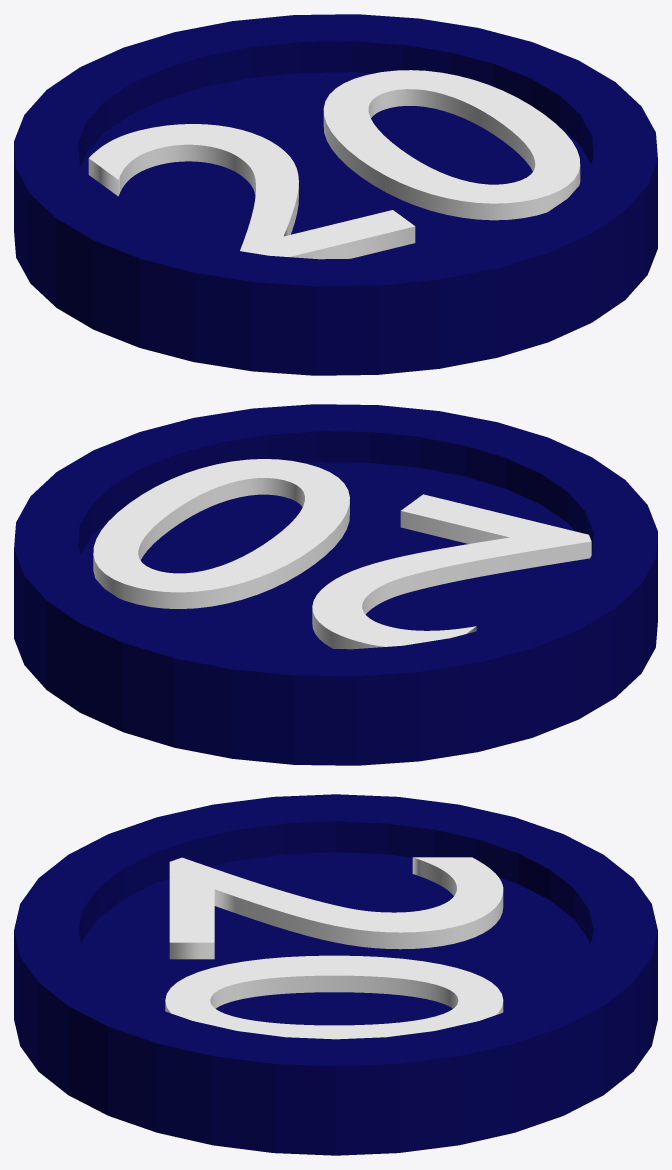
Rendered from moneta_20.fbx.
3 renders of one model, top to bottom at view 1: azimuth 30°, elevation 25°; view 2: azimuth 150°, elevation 25°; view 3: azimuth 270°, elevation 25°, orthographic.
Parts seen in each view (by area): view 1: MONETA_20, NOMINAL_G; view 2: MONETA_20, NOMINAL_G; view 3: MONETA_20, NOMINAL_G.
Part boxes in pixels (x1,y1,x2,y2): MONETA_20: (14,14,657,375); NOMINAL_G: (88,70,580,259); MONETA_20: (14,404,657,765); NOMINAL_G: (93,459,591,649); MONETA_20: (14,794,657,1155); NOMINAL_G: (165,857,503,1039).
Size of the model in its own units: 200 by 30.58 by 200.
